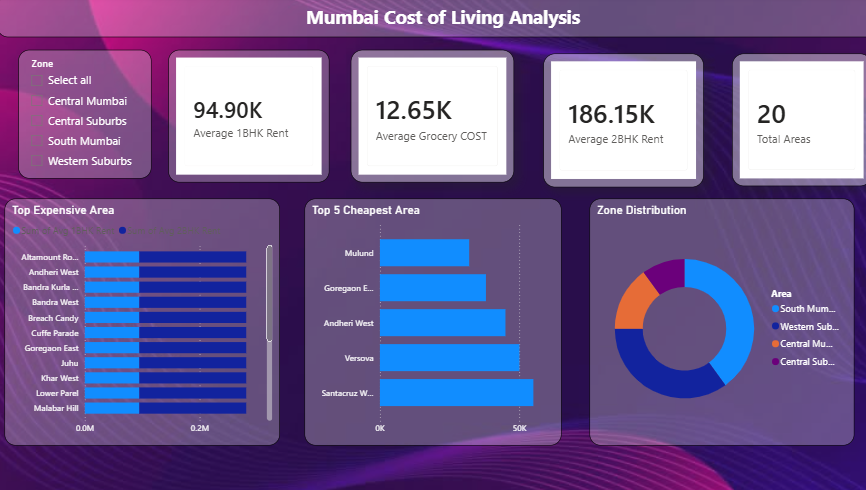

The page's visual inventory and layout, read from the dashboard file:
{"tool":"powerbi","page":{"name":"Page 1","canvas":[1280,720],"ordinal":0},"visuals":[{"type":"textbox","box":[0,0,1280.3,59.3],"z":0},{"type":"barChart","title":"Top Expensive Area","fields":{"Category":["Sheet1.Area"],"Y":["Sum(Sheet1.AVG(1BHK))","Sum(Sheet1.AVG(2BHK))"]},"box":[11,290.9,395.2,354],"z":1000},{"type":"cardVisual","title":"Average 1BHK Rent","fields":{"Data":["Sheet1.Average 1BHK Rent"]},"box":[245.6,77.6,231.5,190.6],"z":2000},{"type":"cardVisual","title":"Average 2BHK Rent","fields":{"Data":["Sheet1.Average 2BHK Rent1"]},"box":[783.4,81.9,230.1,192],"z":3000},{"type":"slicer","fields":{"Values":["Sheet1.Zone"]},"box":[30.8,77.8,190.8,185],"z":4000},{"type":"cardVisual","title":"t","fields":{"Data":["Sheet1.Average Grocery COST"]},"box":[508.2,77.6,234.3,190.6],"z":5000},{"type":"cardVisual","fields":{"Data":["Sheet1.Total Areas"]},"box":[1054.4,83.3,200.4,190.6],"z":6000},{"type":"barChart","title":"Top 5 Cheapest Area","fields":{"Category":["Sheet1.Area"],"Y":["Sheet1.Average 1BHK Rent"]},"box":[440.5,290.9,369.1,354],"z":7000},{"type":"donutChart","title":"Zone Distribution","fields":{"Category":["Sheet1.Zone"],"Y":["CountNonNull(Sheet1.Area)"]},"box":[849.4,290.9,380.1,354],"z":8000}]}

Visuals, with their boxes in screenshot pixels (x1, y1, x2, y2), scaled from the page's 1280x720 canvas onto the 866x490 screenshot:
textbox: x1=0, y1=0, x2=865, y2=40
"Top Expensive Area" barChart: x1=7, y1=198, x2=275, y2=439
"Average 1BHK Rent" cardVisual: x1=166, y1=53, x2=323, y2=183
"Average 2BHK Rent" cardVisual: x1=530, y1=56, x2=686, y2=186
slicer - Sheet1.Zone: x1=21, y1=53, x2=150, y2=179
"t" cardVisual: x1=344, y1=53, x2=502, y2=183
cardVisual - Sheet1.Total Areas: x1=713, y1=57, x2=849, y2=186
"Top 5 Cheapest Area" barChart: x1=298, y1=198, x2=548, y2=439
"Zone Distribution" donutChart: x1=575, y1=198, x2=832, y2=439
